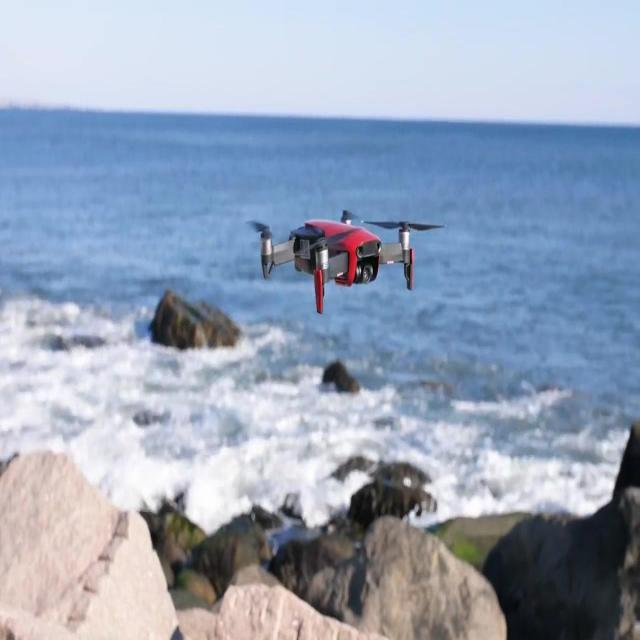UAV: (246, 210, 446, 314)
